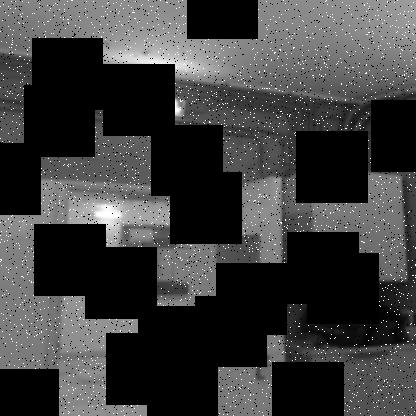Porte: (38, 174, 290, 416)
